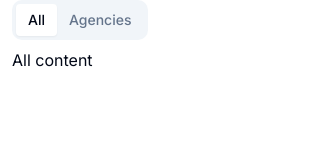
Scenario: Tabs › shows the default tab's content and switches on trigger click
Expected: the text "All content" is shown, [12, 50, 93, 70]
Expected: the text "Agencies content" is not shown
Click the tab "Agencies": (100, 20) [57, 4, 144, 36]
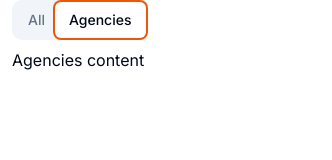
Result: the text "Agencies content" is shown at [12, 50, 144, 70]
Result: the text "All content" is gone
